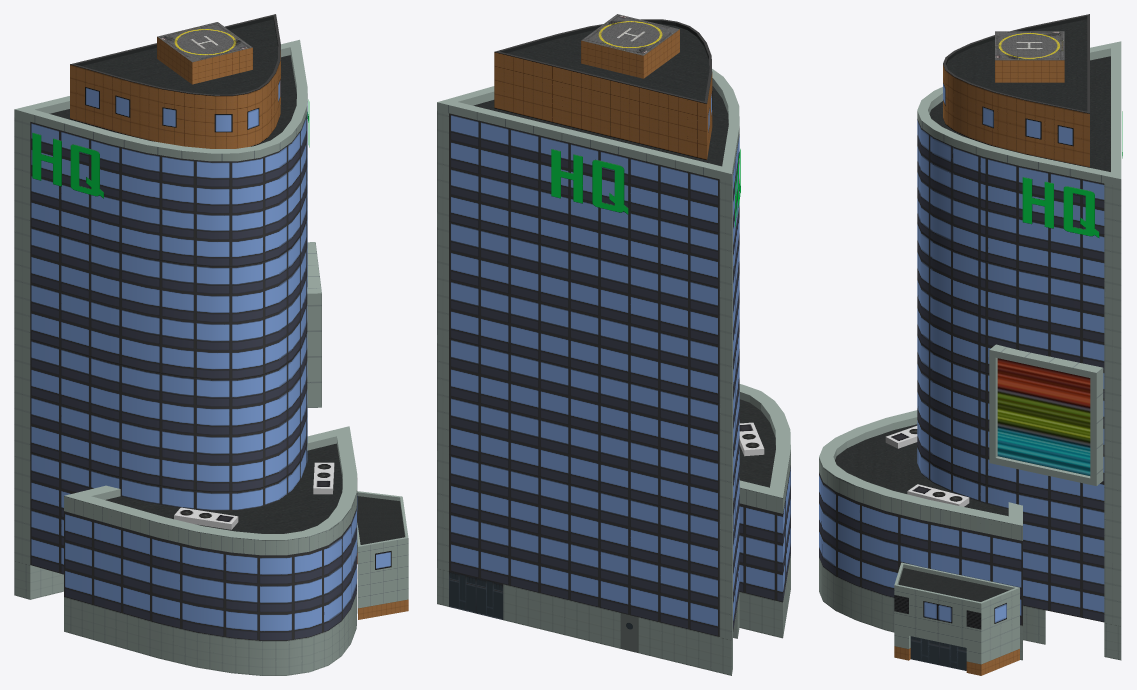
File: BVR Luxury Tower_02.FBX
The picture shows the model from 3 angles, left to right: view 1: azimuth 30°, elevation 25°; view 2: azimuth 150°, elevation 25°; view 3: azimuth 270°, elevation 25°; orthographic projection. The views are drawn at different scales.
Visible parts, largest first — view 1: BVR Luxury Tower_02; view 2: BVR Luxury Tower_02; view 3: BVR Luxury Tower_02.
Boxes of the visible parts, bbox=[...] form: BVR Luxury Tower_02: bbox=[14, 14, 408, 675]; BVR Luxury Tower_02: bbox=[437, 14, 790, 675]; BVR Luxury Tower_02: bbox=[819, 14, 1122, 675].
Size of the model in its own units: 12.44 by 20.66 by 10.41.
